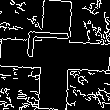L_E: (29, 38, 81, 72)
